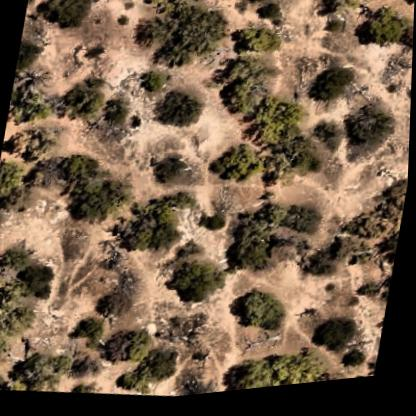tree-top: (338, 177, 410, 274), (114, 189, 187, 265), (221, 204, 285, 287), (165, 0, 229, 75), (64, 171, 137, 235), (254, 138, 322, 205), (164, 254, 228, 316), (95, 270, 151, 336), (232, 285, 292, 344), (254, 93, 312, 154), (253, 197, 325, 246), (9, 347, 75, 396), (354, 7, 412, 61), (217, 70, 268, 130), (345, 106, 400, 160), (209, 140, 263, 194), (131, 6, 180, 61), (17, 114, 67, 167), (62, 73, 112, 126), (153, 89, 207, 136), (308, 66, 354, 119), (0, 291, 36, 358), (272, 350, 328, 393), (231, 21, 280, 68), (228, 355, 280, 396), (35, 0, 91, 38), (312, 318, 356, 365), (115, 324, 159, 370), (140, 346, 182, 391), (302, 243, 340, 290), (57, 150, 98, 192), (10, 86, 51, 128), (16, 262, 55, 303), (75, 314, 110, 352), (71, 350, 106, 388), (0, 156, 27, 204), (14, 31, 41, 79), (151, 158, 186, 194), (0, 240, 33, 277), (96, 96, 128, 134), (313, 123, 344, 161), (315, 0, 352, 29), (138, 69, 168, 100), (115, 369, 146, 398), (325, 369, 372, 388), (342, 351, 370, 381), (176, 237, 204, 265), (203, 214, 229, 241), (256, 3, 281, 30), (141, 0, 190, 12), (172, 191, 196, 215), (346, 0, 384, 10), (246, 0, 273, 11), (400, 0, 415, 17), (0, 270, 6, 303), (169, 0, 204, 5), (0, 362, 5, 390)
